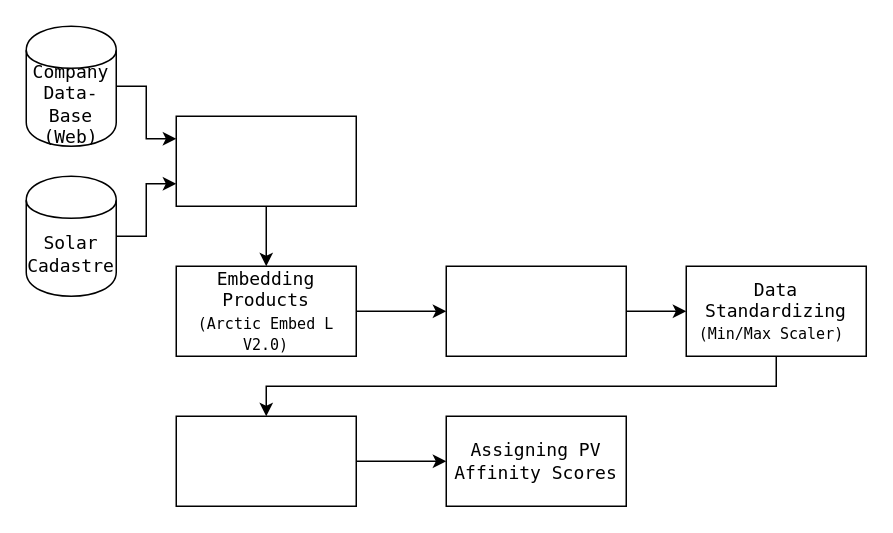
The diagram is 893 pixels wide and 533 high, and some of its shapes have lost their labels. The centre of each missing label's shape, as x and y in pixels:
"Agglomerative Clustering of Companies" goes at (265,460).
"Data Acquisition" goes at (265,160).
"Mapping Ordinal Data" goes at (535,310).
